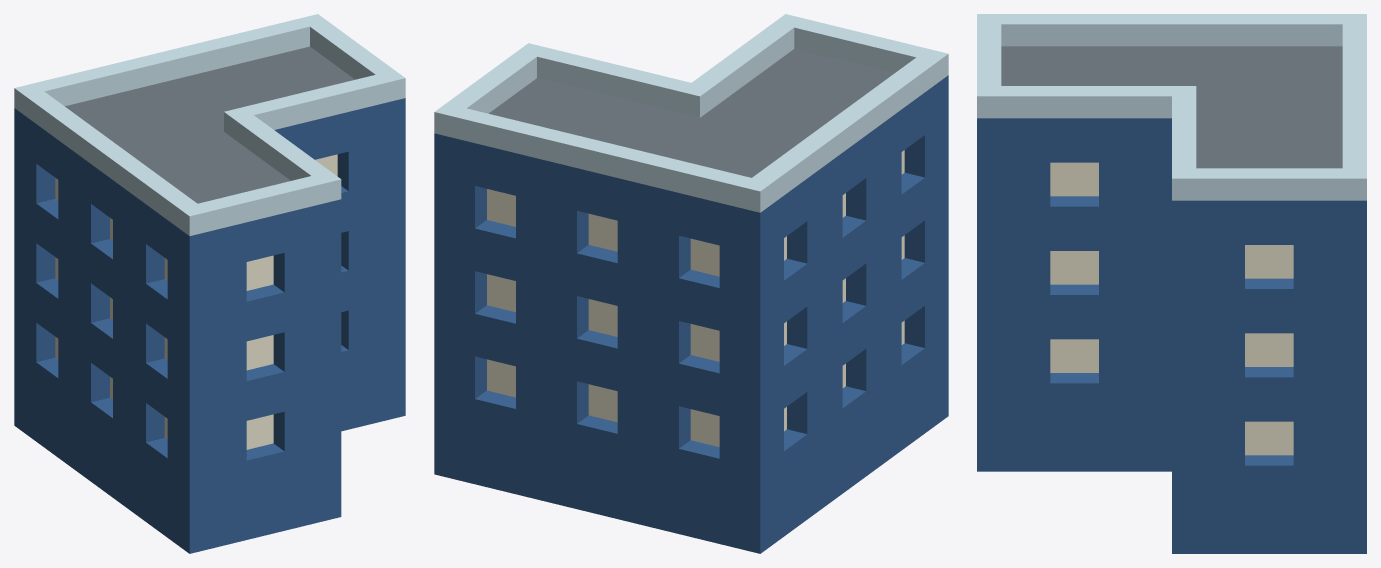
File: Building_3 (Blue).obj
3 renders of one model, left to right at view 1: azimuth 30°, elevation 25°; view 2: azimuth 150°, elevation 25°; view 3: azimuth 270°, elevation 25°, orthographic. The views are drawn at different scales.
Parts seen in each view (by area): view 1: Building_3_(Blue); view 2: Building_3_(Blue); view 3: Building_3_(Blue).
Boxes of the visible parts, x1=… form: Building_3_(Blue): x1=14, y1=14, x2=405, y2=553; Building_3_(Blue): x1=434, y1=14, x2=948, y2=553; Building_3_(Blue): x1=977, y1=14, x2=1366, y2=553.
Bounding box in the file's own units: 1.6 × 1.7 × 1.6.
